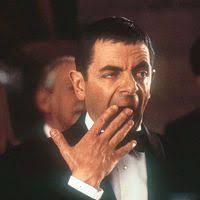ring: (109, 118, 141, 152)
